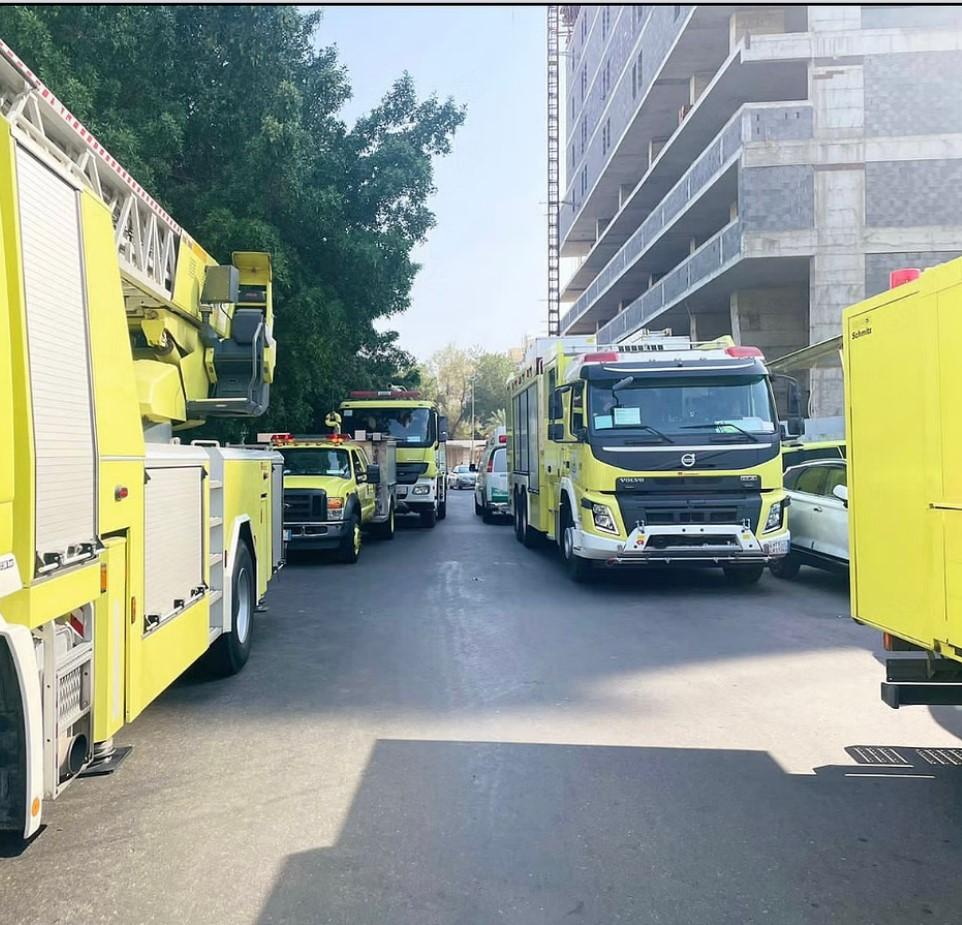firetruck_off: (6, 40, 288, 849), (496, 336, 785, 579), (270, 384, 444, 552)
